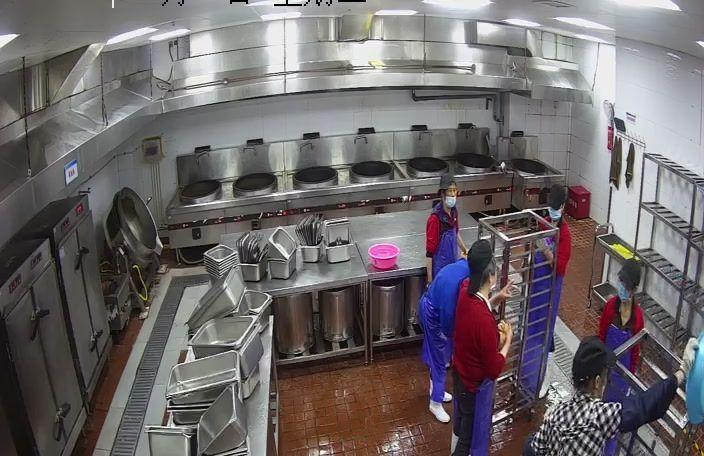mask: (445, 189, 459, 208)
